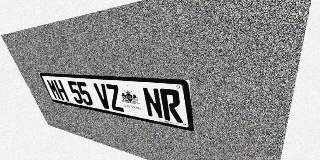5: (76, 81, 94, 106), (67, 81, 85, 104)
H: (53, 80, 70, 102)
M: (46, 79, 62, 100)
N: (141, 87, 164, 120)
R: (159, 88, 183, 123)
V: (93, 83, 112, 110)
Z: (105, 84, 125, 112)
